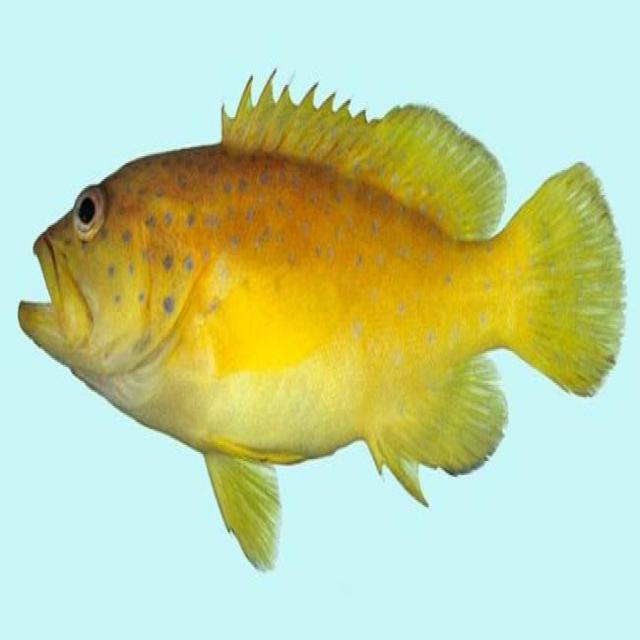ikan: (17, 65, 627, 572)
